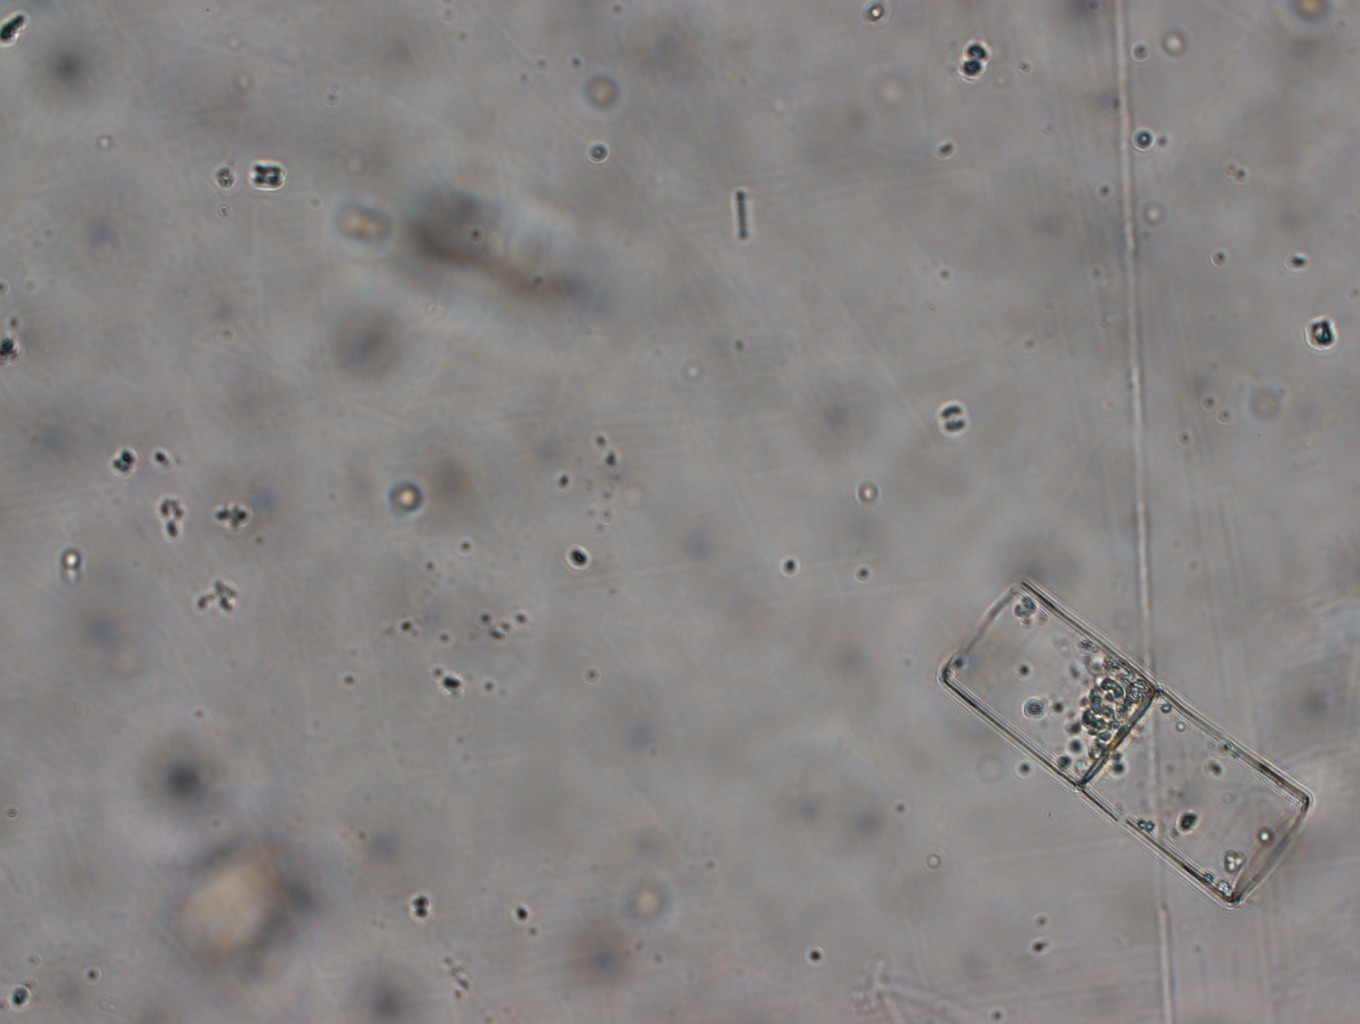guinardia flaccida: (940, 581, 1316, 909)
